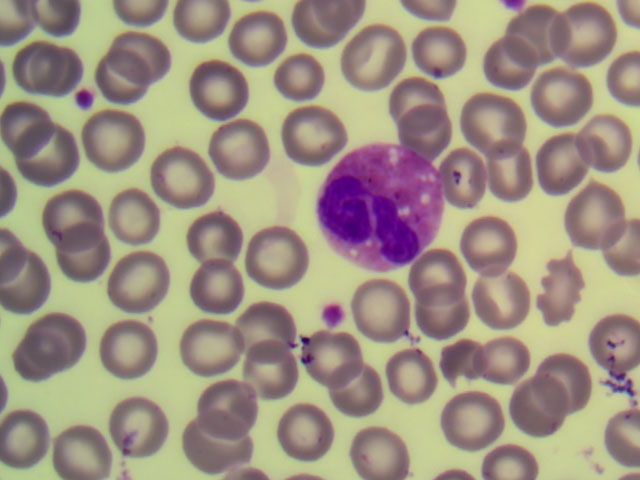Platelets: (322, 303, 345, 326), (74, 91, 93, 110), (505, 1, 526, 12)
RBC: (15, 118, 76, 183), (83, 111, 145, 171), (248, 223, 310, 283), (340, 26, 402, 86), (282, 100, 344, 160), (188, 59, 250, 119), (211, 115, 273, 175), (151, 148, 213, 208), (49, 420, 111, 480), (107, 394, 169, 454), (98, 320, 160, 380), (107, 250, 169, 310), (44, 189, 106, 249), (562, 185, 624, 245), (534, 134, 596, 194), (555, 1, 617, 61), (462, 91, 524, 151), (442, 389, 504, 449), (468, 265, 530, 325), (456, 216, 518, 276), (411, 279, 473, 339), (407, 245, 469, 305), (352, 277, 414, 337), (327, 358, 389, 418), (271, 401, 333, 461), (198, 379, 260, 439), (185, 412, 247, 472), (106, 28, 171, 85), (531, 64, 591, 125), (507, 375, 567, 434), (578, 110, 632, 175), (55, 218, 108, 283), (26, 311, 86, 368), (506, 6, 558, 70), (537, 249, 579, 327), (533, 354, 587, 414), (188, 210, 244, 267), (180, 320, 239, 374), (386, 345, 438, 405), (238, 303, 295, 357), (306, 330, 360, 387), (189, 260, 245, 314), (586, 314, 640, 370), (440, 146, 488, 208), (400, 98, 455, 151), (110, 186, 159, 245), (353, 427, 407, 480), (13, 331, 67, 383), (170, 1, 233, 45), (1, 407, 47, 466), (1, 256, 51, 310), (483, 41, 537, 90), (414, 26, 468, 75), (229, 13, 281, 63), (273, 49, 324, 99), (244, 348, 295, 397), (390, 77, 443, 124), (11, 35, 52, 95), (476, 334, 529, 380), (290, 1, 345, 45), (1, 104, 51, 152), (490, 146, 532, 203), (101, 51, 154, 96), (483, 439, 536, 480), (604, 409, 640, 466), (440, 333, 484, 377), (610, 213, 640, 276), (605, 48, 639, 103), (40, 44, 80, 90), (29, 1, 80, 36), (301, 1, 365, 28), (1, 223, 33, 273), (1, 1, 36, 46), (109, 1, 168, 27), (400, 1, 459, 22), (424, 462, 477, 480), (616, 1, 639, 32)
WBC: (319, 145, 442, 270)
